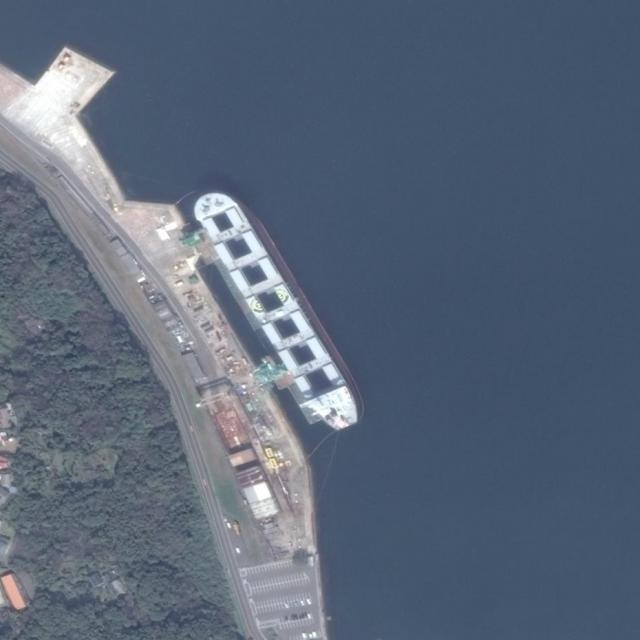Cargo: (182, 175, 374, 445)
